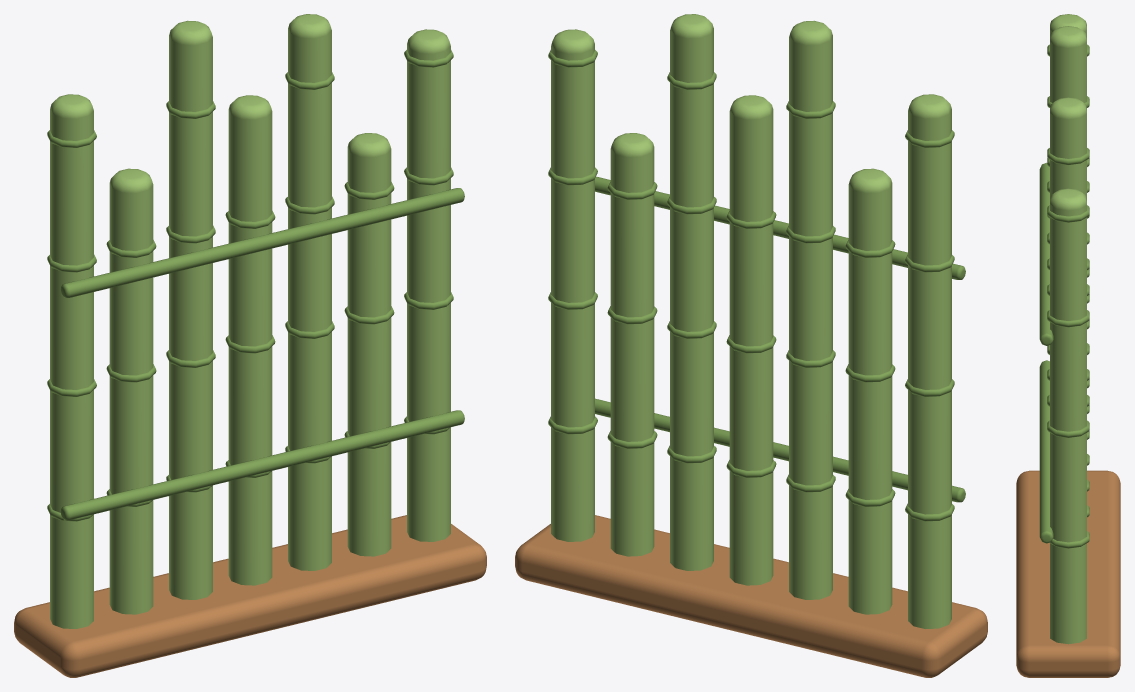
The model's file is bamboo_partition.glb.
3 renders of one model, left to right at view 1: azimuth 30°, elevation 25°; view 2: azimuth 150°, elevation 25°; view 3: azimuth 270°, elevation 25°, orthographic. The views are drawn at different scales.
Visible parts, largest first — view 1: bamboo_partition_mesh; view 2: bamboo_partition_mesh; view 3: bamboo_partition_mesh.
Boxes of the visible parts, bbox=[...] form: bamboo_partition_mesh: bbox=[14, 14, 486, 677]; bamboo_partition_mesh: bbox=[515, 14, 987, 677]; bamboo_partition_mesh: bbox=[1016, 14, 1120, 677].
Bounding box in the file's own units: 1 × 1.35 × 0.24.
